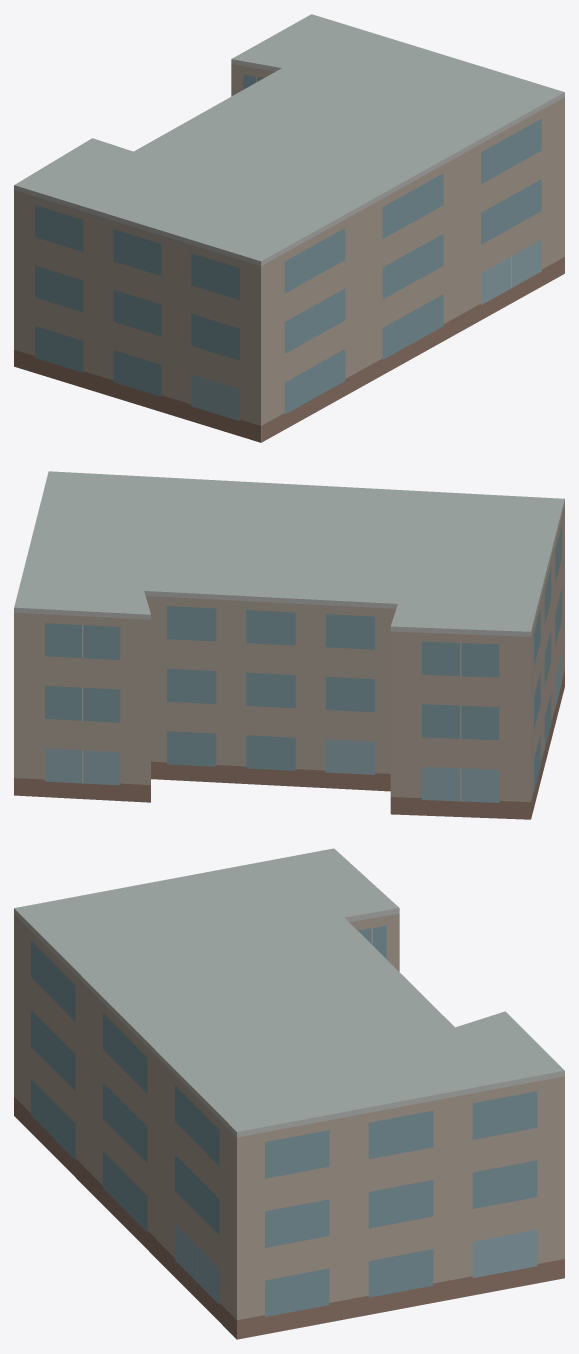
The model's file is survey-upis-32856471.glb.
3 views of the same model, one above another, from view 1: azimuth 30°, elevation 25°; view 2: azimuth 150°, elevation 25°; view 3: azimuth 270°, elevation 25° (orthographic). The views are drawn at different scales.
Parts seen in each view (by area): view 1: survey-upis-32856471.tmp; view 2: survey-upis-32856471.tmp; view 3: survey-upis-32856471.tmp.
Part boxes in pixels (left/top/right/bottom): survey-upis-32856471.tmp: left=14, top=14, right=564, bottom=442; survey-upis-32856471.tmp: left=14, top=471, right=564, bottom=819; survey-upis-32856471.tmp: left=14, top=848, right=564, bottom=1339.
Bounding box in the file's own units: 26.84 × 9.15 × 22.02.
